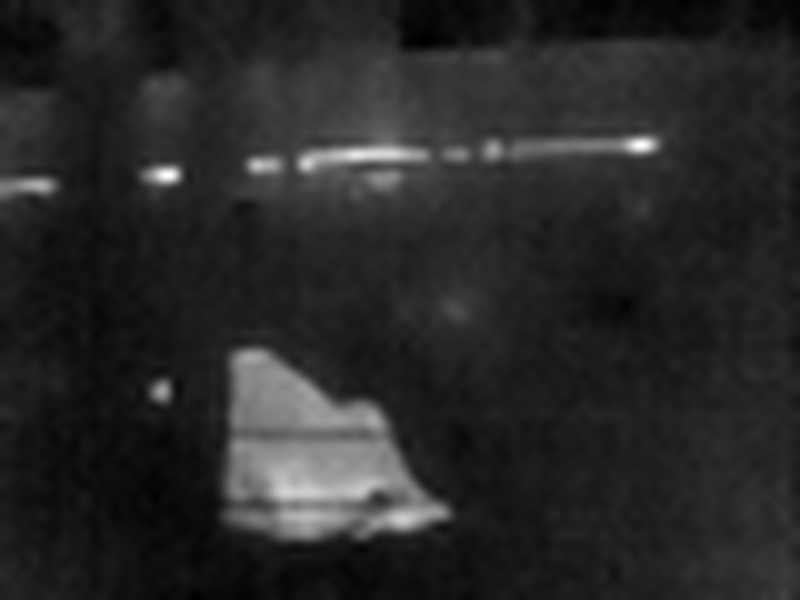elephant: (111, 340, 456, 581)
